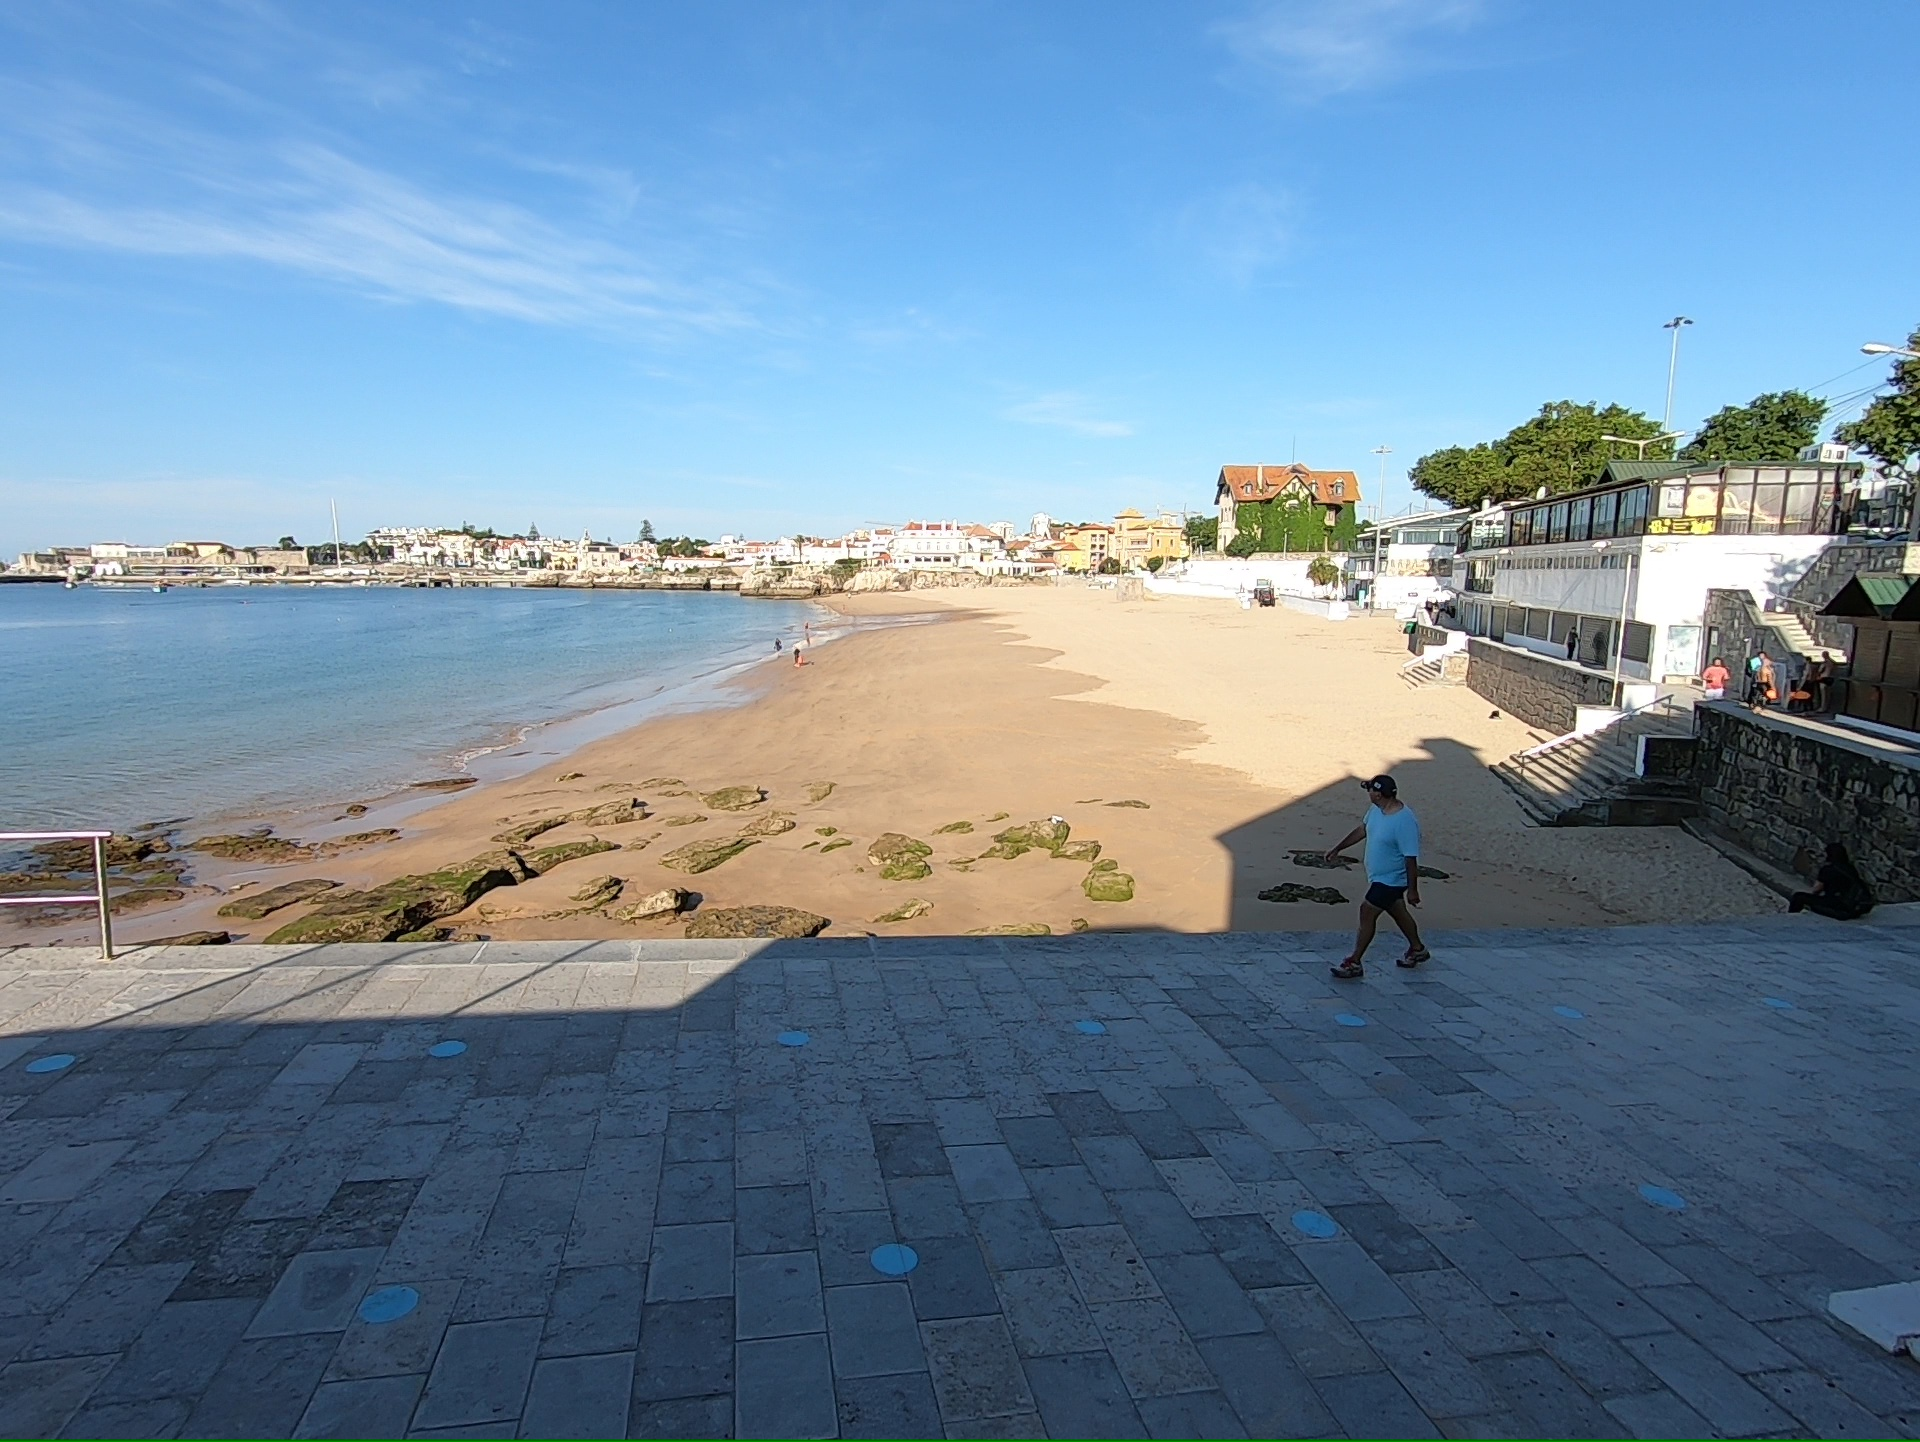person: (1326, 774, 1432, 979), (1788, 837, 1875, 918), (1701, 656, 1727, 700), (1751, 659, 1774, 707), (1793, 655, 1814, 709), (1817, 650, 1834, 713), (1565, 626, 1581, 664), (792, 646, 802, 668), (773, 638, 782, 655), (803, 621, 808, 629)
